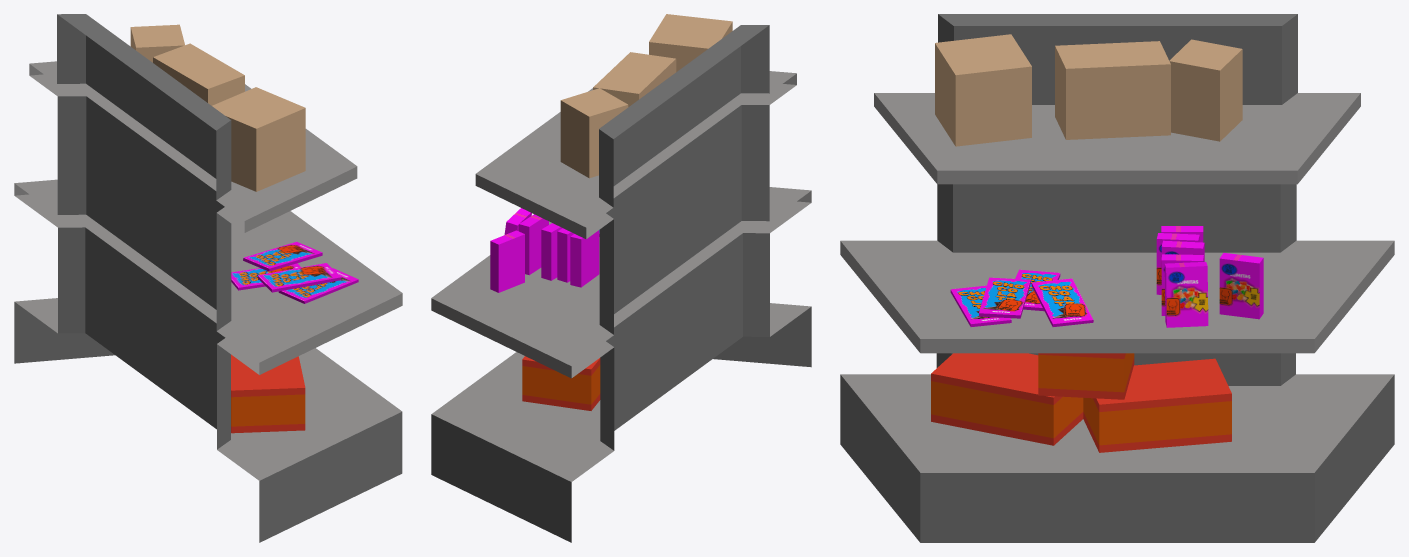
File: gondolaGolosinas.fbx
3 renders of one model, left to right at view 1: azimuth 30°, elevation 25°; view 2: azimuth 150°, elevation 25°; view 3: azimuth 270°, elevation 25°, orthographic. The views are drawn at different scales.
Parts seen in each view (by area): view 1: Gondola C, Plane.003, Plane.002, Plane.013, Plane.001; view 2: Gondola C, Plane.008, Plane, Plane.006, Plane.005, Plane.004; view 3: Gondola C, Plane.007, Plane.008, Plane.002, Plane.003, Plane.013, Plane.001, Plane.004.
Boxes of the visible parts, x1,y1,x2,y2 form: Gondola C: (14, 14, 402, 542); Plane.003: (257, 263, 341, 292); Plane.002: (243, 241, 322, 271); Plane.013: (278, 268, 358, 303); Plane.001: (231, 263, 300, 290); Gondola C: (431, 14, 811, 542); Plane.008: (490, 230, 524, 292); Plane: (570, 230, 599, 287); Plane.006: (519, 214, 548, 275); Plane.005: (541, 223, 562, 280); Plane.004: (557, 228, 573, 282); Gondola C: (840, 14, 1394, 542); Plane.007: (1164, 262, 1208, 327); Plane.008: (1219, 253, 1263, 319); Plane.002: (1031, 278, 1093, 326); Plane.003: (979, 277, 1030, 318); Plane.013: (950, 285, 1011, 326); Plane.001: (1015, 269, 1060, 311); Plane.004: (1156, 233, 1199, 294).
Size of the model in its own units: 58.92 by 120 by 140.
8 materials, 2 textured.
